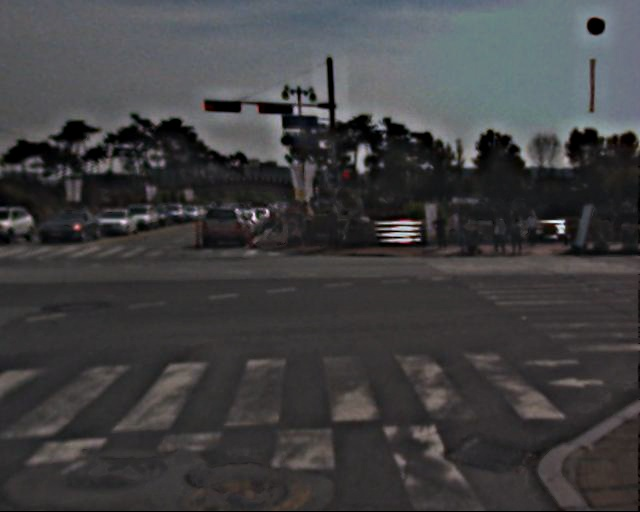person: (271, 200, 308, 246), (325, 202, 350, 256), (461, 208, 481, 257), (495, 214, 515, 259), (524, 206, 542, 250), (434, 209, 452, 252), (512, 213, 529, 255), (451, 208, 467, 248)
